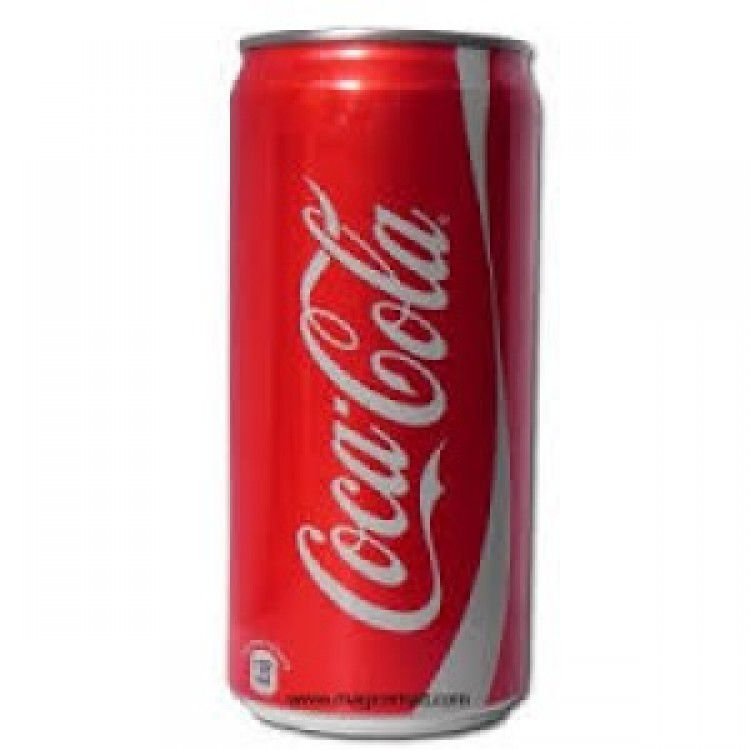can: (223, 22, 549, 743)
